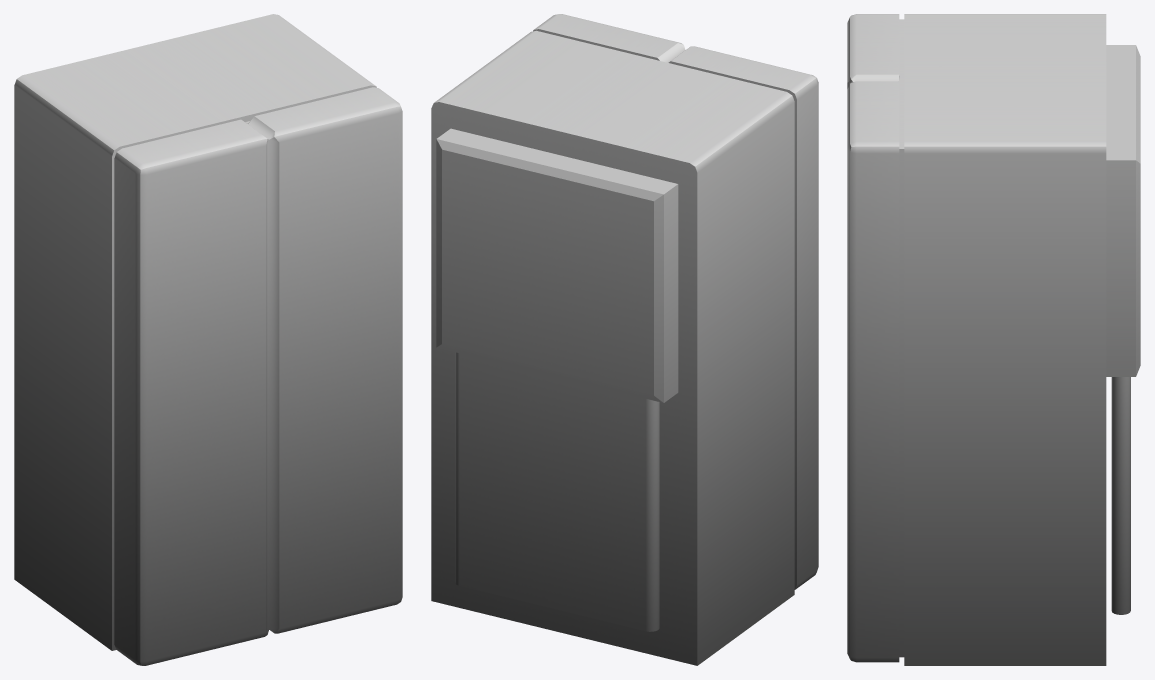
Rendered from geo_fridge.fbx.
3 renders of one model, left to right at view 1: azimuth 30°, elevation 25°; view 2: azimuth 150°, elevation 25°; view 3: azimuth 270°, elevation 25°, orthographic. The views are drawn at different scales.
Parts seen in each view (by area): view 1: geo_fridge; view 2: geo_fridge; view 3: geo_fridge.
Boxes of the visible parts, bbox=[...] form: geo_fridge: bbox=[14, 14, 402, 665]; geo_fridge: bbox=[431, 14, 818, 665]; geo_fridge: bbox=[847, 14, 1140, 665].
Bounding box in the file's own units: 1 × 1.8 × 0.9183.
Materials: 1 (1 with a texture image).
